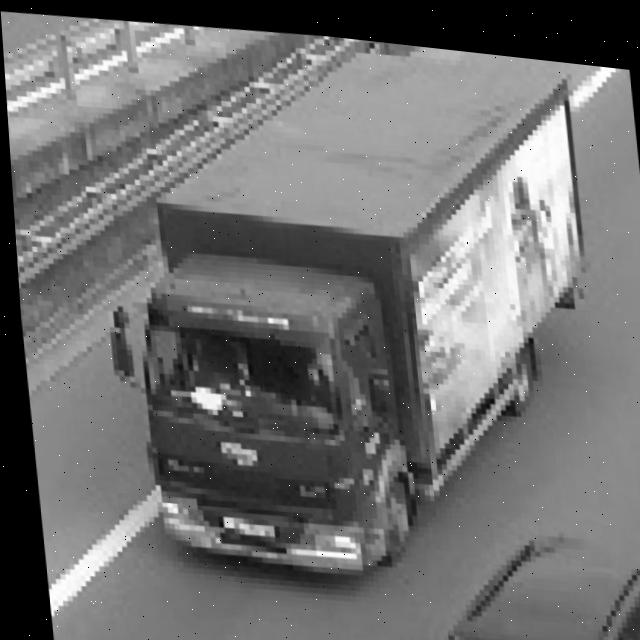truck: (86, 211, 440, 597)
